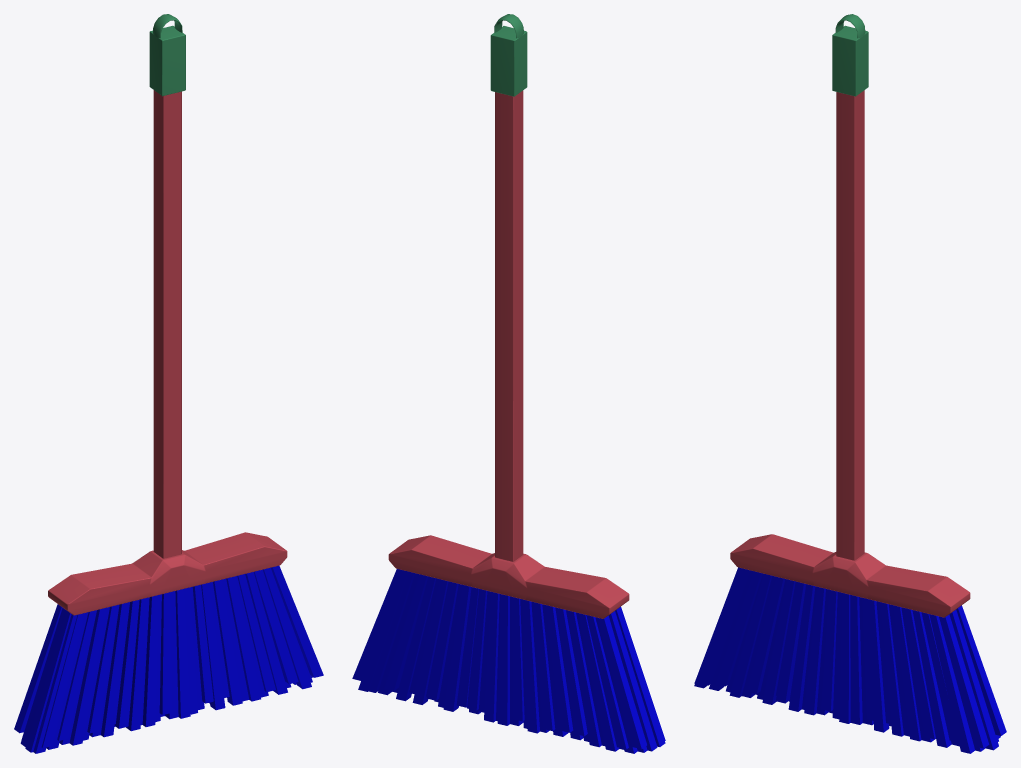
File: 3D_Escoba.fbx
The picture shows the model from 3 angles, left to right: view 1: azimuth 30°, elevation 25°; view 2: azimuth 150°, elevation 25°; view 3: azimuth 330°, elevation 25°; orthographic projection.
Visible parts, largest first — view 1: Escoba; view 2: Escoba; view 3: Escoba.
Part boxes in pixels (x1,y1,x2,y2): Escoba: [14, 14, 323, 753]; Escoba: [352, 14, 665, 753]; Escoba: [694, 14, 1006, 753].
Bounding box in the file's own units: 59.51 × 135 × 9.03.
